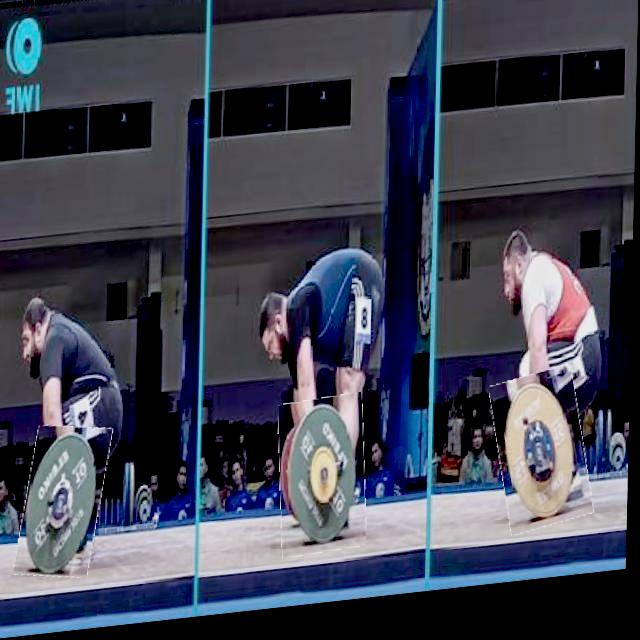barbell: (495, 379, 594, 547), (280, 402, 370, 565), (22, 424, 111, 585)
